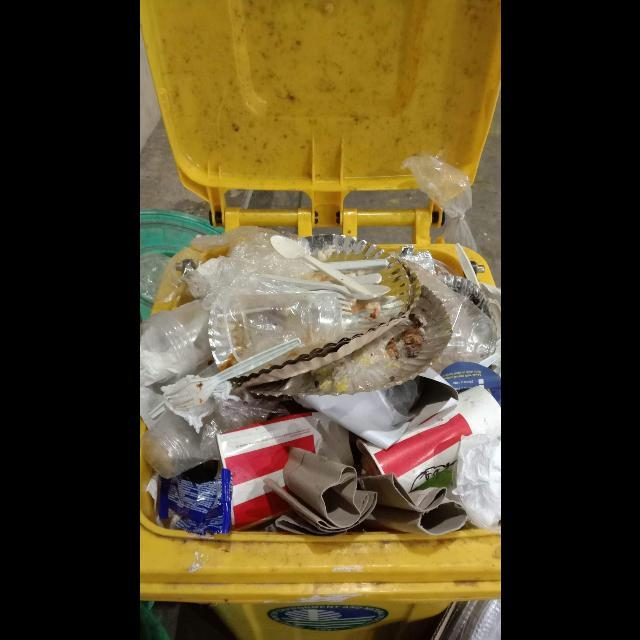cardboard: (262, 447, 467, 537), (216, 412, 354, 532), (356, 386, 501, 493)
food_wrapper: (155, 468, 232, 536)
paper: (452, 434, 501, 532)
plastic_bag: (181, 226, 334, 308)
